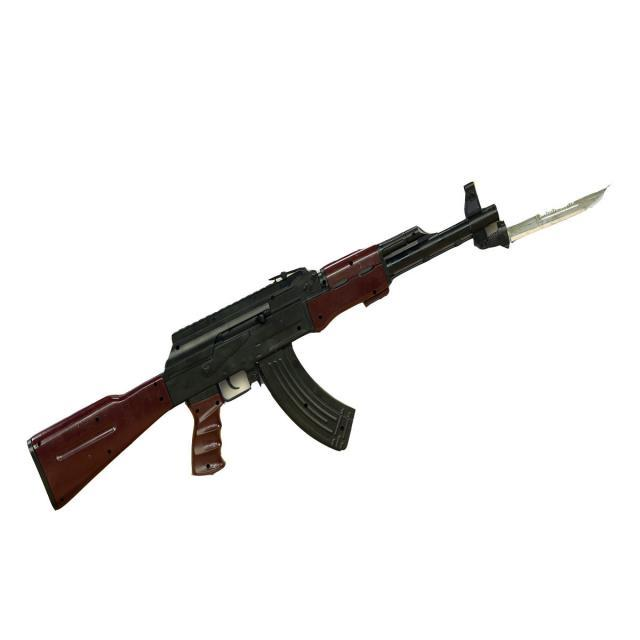knife: (472, 173, 617, 261)
rifle: (18, 177, 504, 517)
